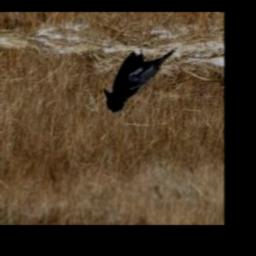Crow: (104, 47, 177, 114)
